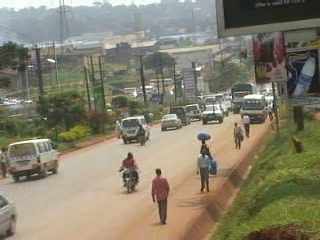Car: (0, 191, 19, 239), (200, 103, 224, 126), (160, 112, 183, 132), (222, 98, 233, 112), (219, 104, 228, 117)
Motorcycle: (116, 165, 139, 194), (136, 129, 148, 147)
